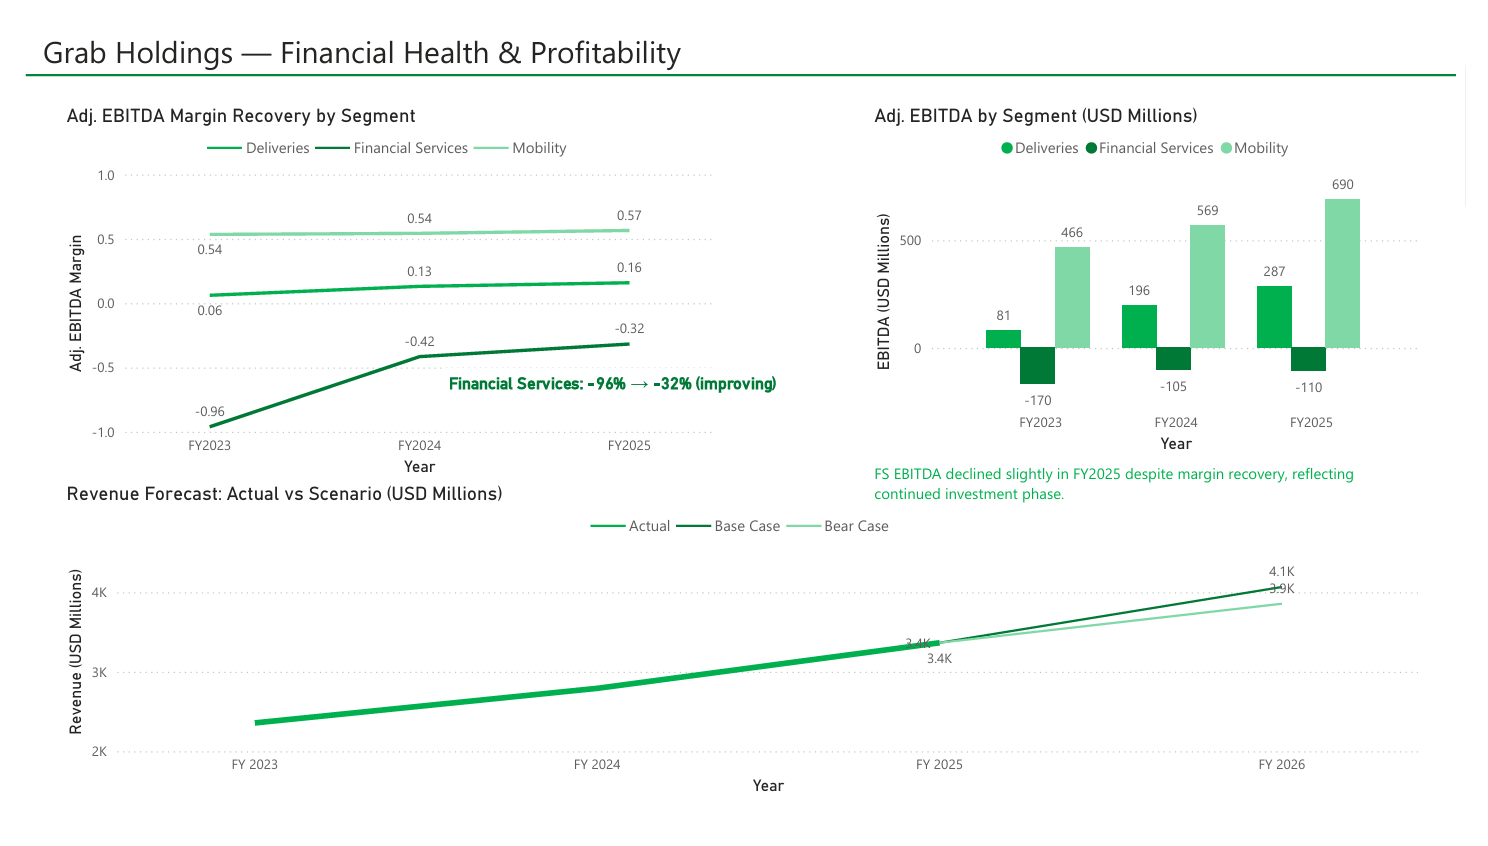

Layout of this report page (visuals, bound fields, positions):
{"tool":"powerbi","page":{"name":"Financial Health","canvas":[1280,720],"ordinal":1},"visuals":[{"type":"lineChart","title":"Adj. EBITDA Margin Recovery by Segment","fields":{"Category":["Revenue.Year"],"Y":["Sum(Revenue.EBITDA_Margin)"],"Series":["Revenue.Segment"]},"box":[31.2,70,585,335],"z":0},{"type":"textbox","box":[371.2,305,317.5,30],"z":1000},{"type":"clusteredColumnChart","title":"Adj. EBITDA by Segment (USD Millions)","fields":{"Category":["Revenue.Year"],"Y":["Sum(Revenue.EBITDA)"],"Series":["Revenue.Segment"]},"box":[748.8,70,495,315],"z":2000},{"type":"lineChart","title":"Revenue Forecast: Actual vs Scenario (USD Millions)","fields":{"Category":["Model.Year"],"Y":["Sum(Model.Revenue)"],"Series":["Model.Scenario"]},"box":[31.4,405.7,1211.4,282.9],"z":3000},{"type":"textbox","box":[748.8,385,495,45],"z":3001},{"type":"textbox","box":[10,0,738.8,52.5],"z":3002},{"type":"shape","box":[0,26.1,1270.7,37],"z":3003}]}

Visuals, with their boxes in screenshot pixels (x1, y1, x2, y2), scaled from the page's 1280x720 canvas onto the 1488x846 screenshot:
"Adj. EBITDA Margin Recovery by Segment" lineChart: locate(36, 82, 716, 476)
textbox: locate(432, 358, 801, 394)
"Adj. EBITDA by Segment (USD Millions)" clusteredColumnChart: locate(870, 82, 1446, 452)
"Revenue Forecast: Actual vs Scenario (USD Millions)" lineChart: locate(37, 477, 1445, 809)
textbox: locate(870, 452, 1446, 505)
textbox: locate(12, 0, 870, 62)
shape: locate(0, 31, 1477, 74)
